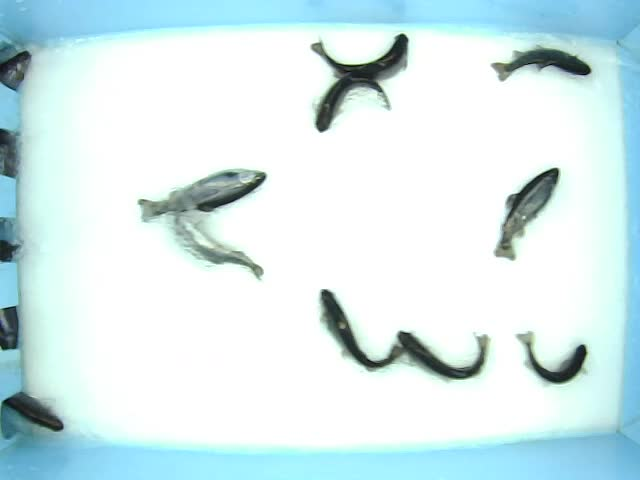fish: (137, 169, 268, 224), (310, 282, 395, 366), (394, 317, 500, 381), (490, 167, 561, 261), (170, 211, 264, 279), (514, 325, 605, 385), (308, 31, 411, 78), (312, 77, 393, 135), (489, 44, 591, 83)
